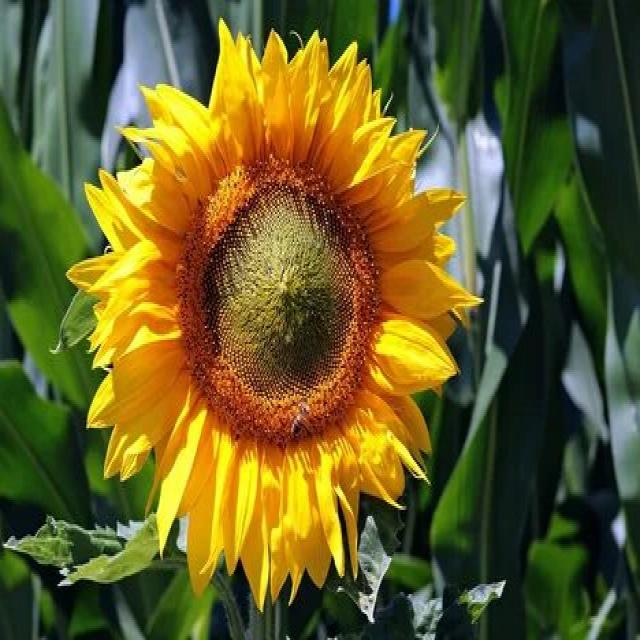sunflower: (56, 16, 483, 586)
